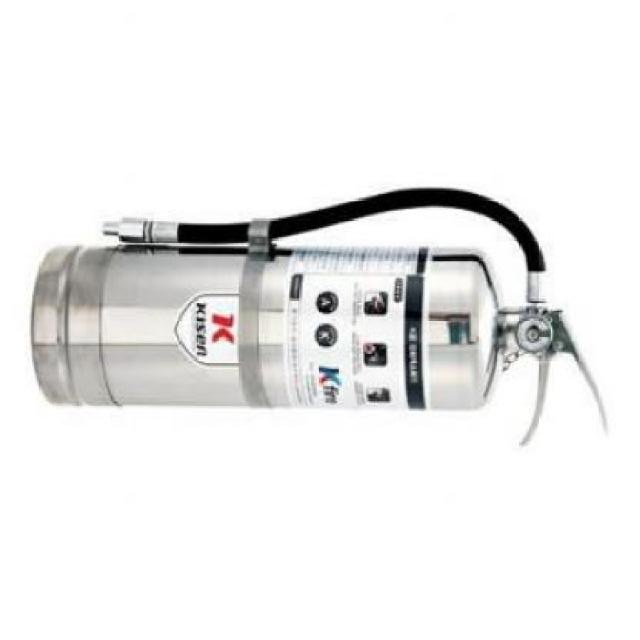fire extinguisher: (29, 186, 611, 446)
